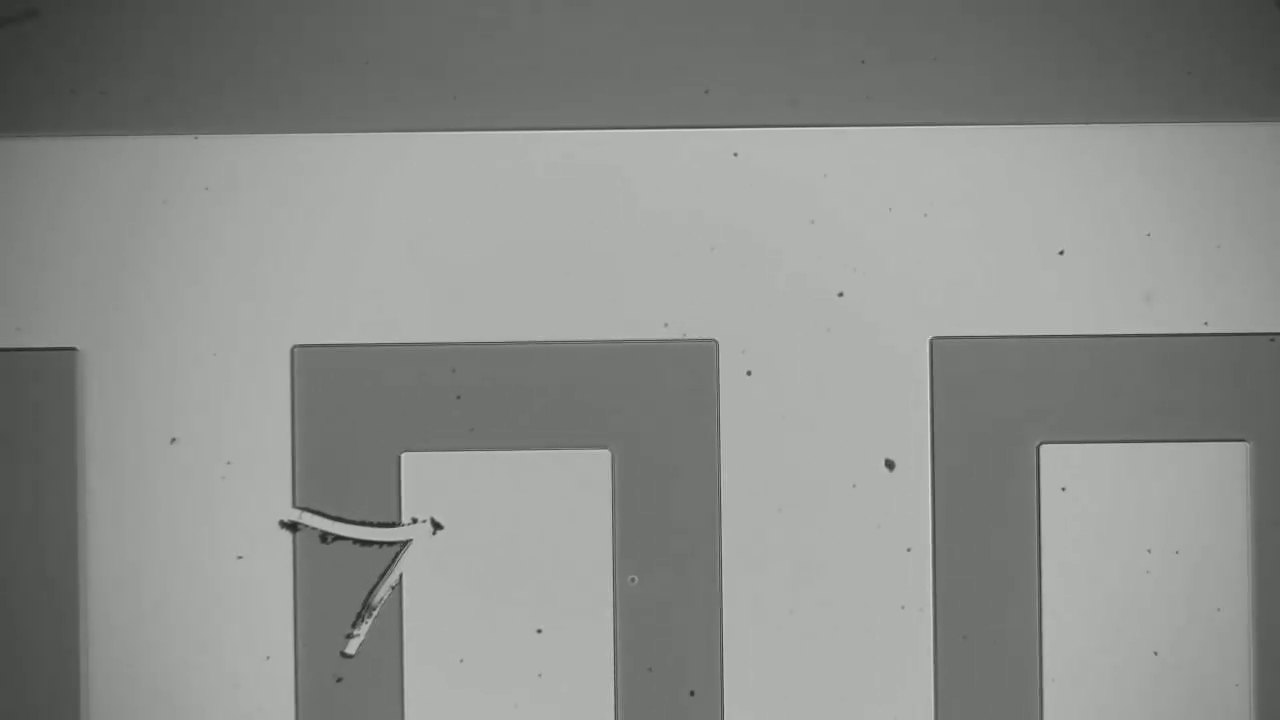Short_circuit: (275, 481, 458, 577)
